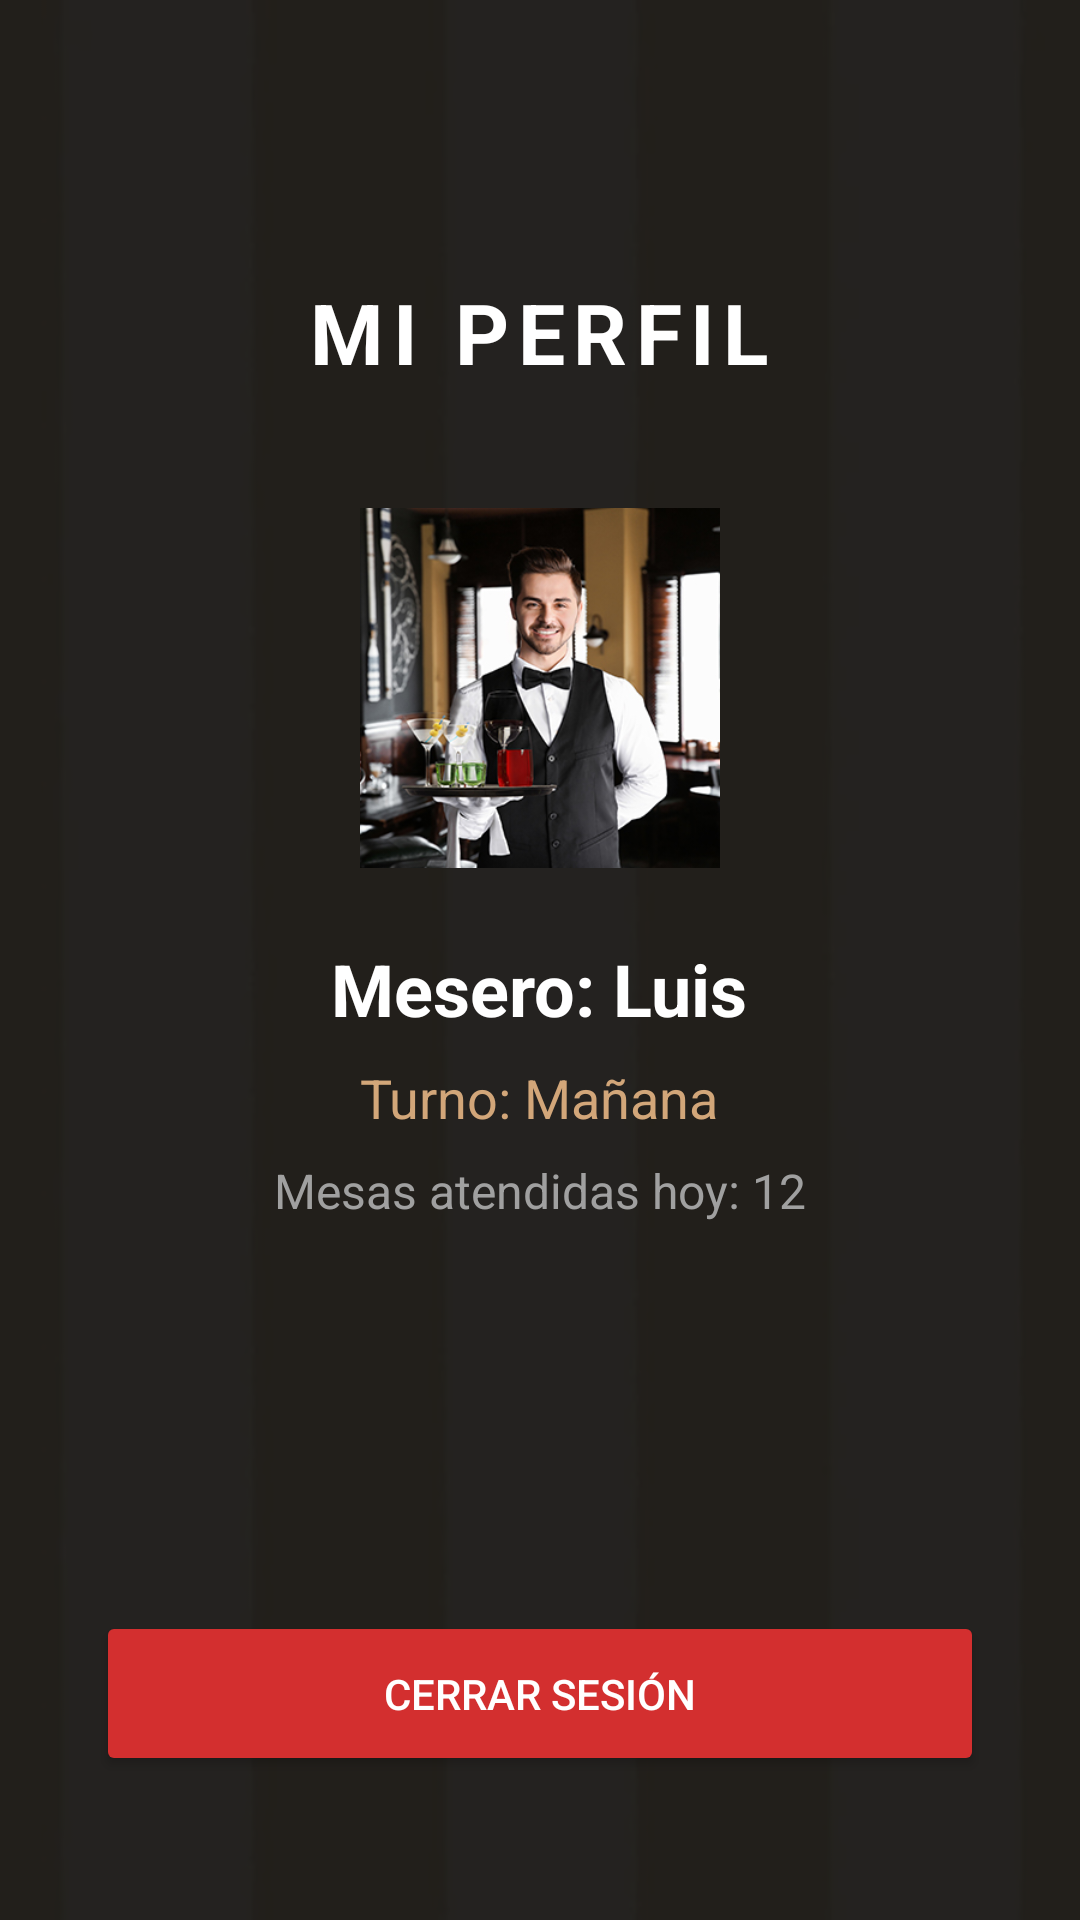

Point at icon controls on the screen. Image size 1080*1920, points as (x=x, y=y).
mozoperfil: (x=540, y=688)
